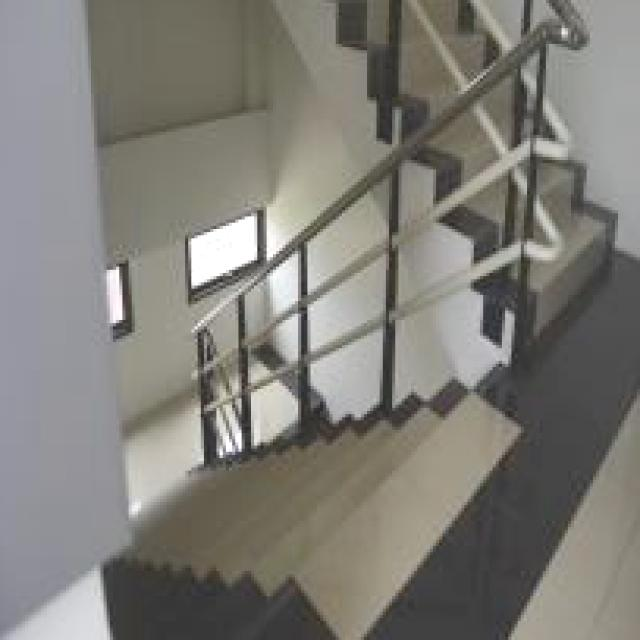downstair: (199, 478, 506, 640)
